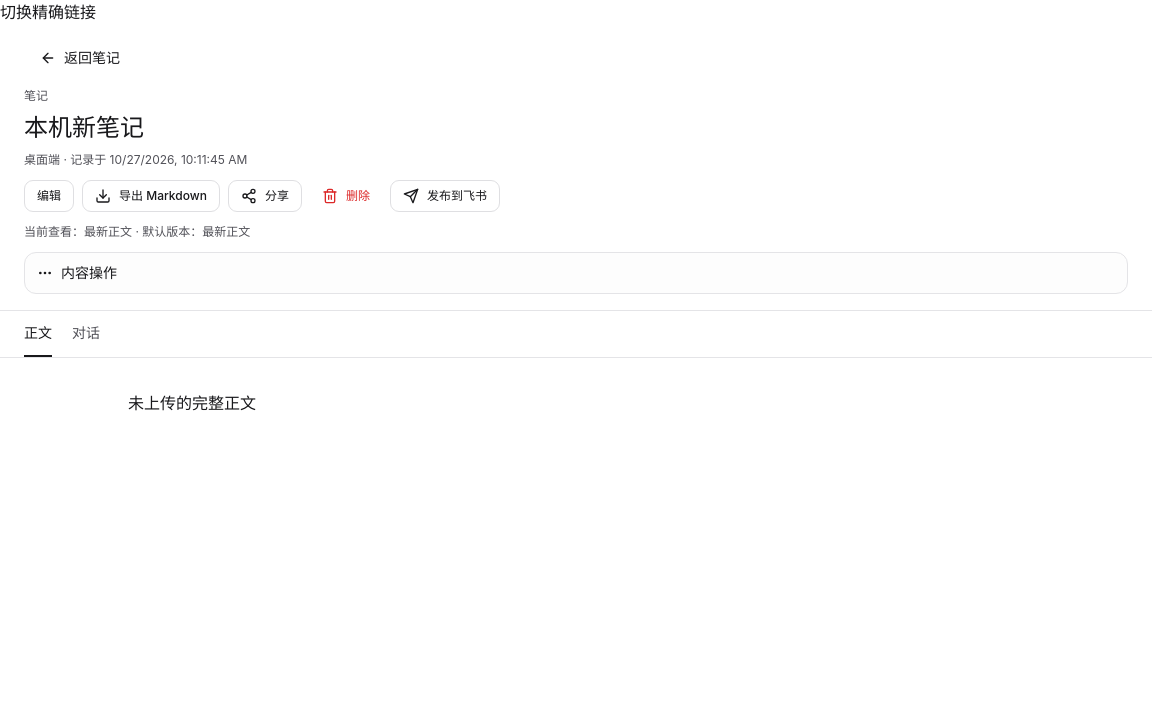
Scenario: connects a newly saved store-local detail to real device trash without any remote request
Expected: the text "未上传的完整正文" is shown, [128,393,256,413]
Click the button "内容操作" at (77, 272), box [37,264,117,281]
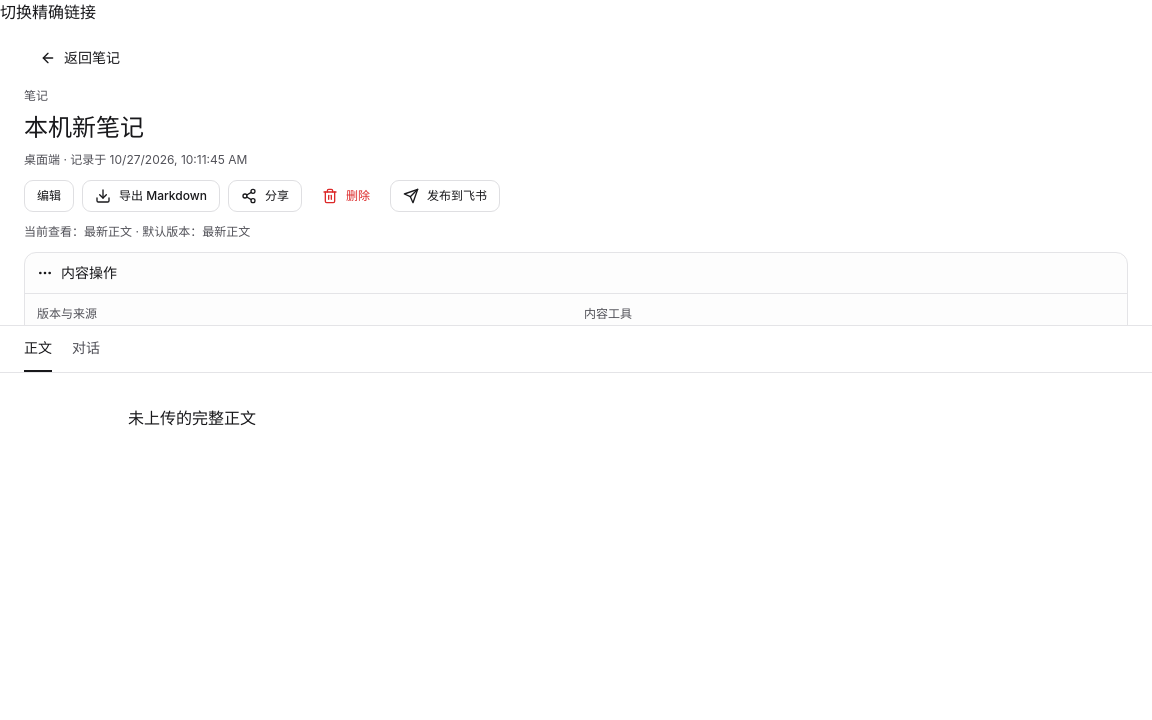
Click the button "删除" at (346, 196), box [310,180,382,212]
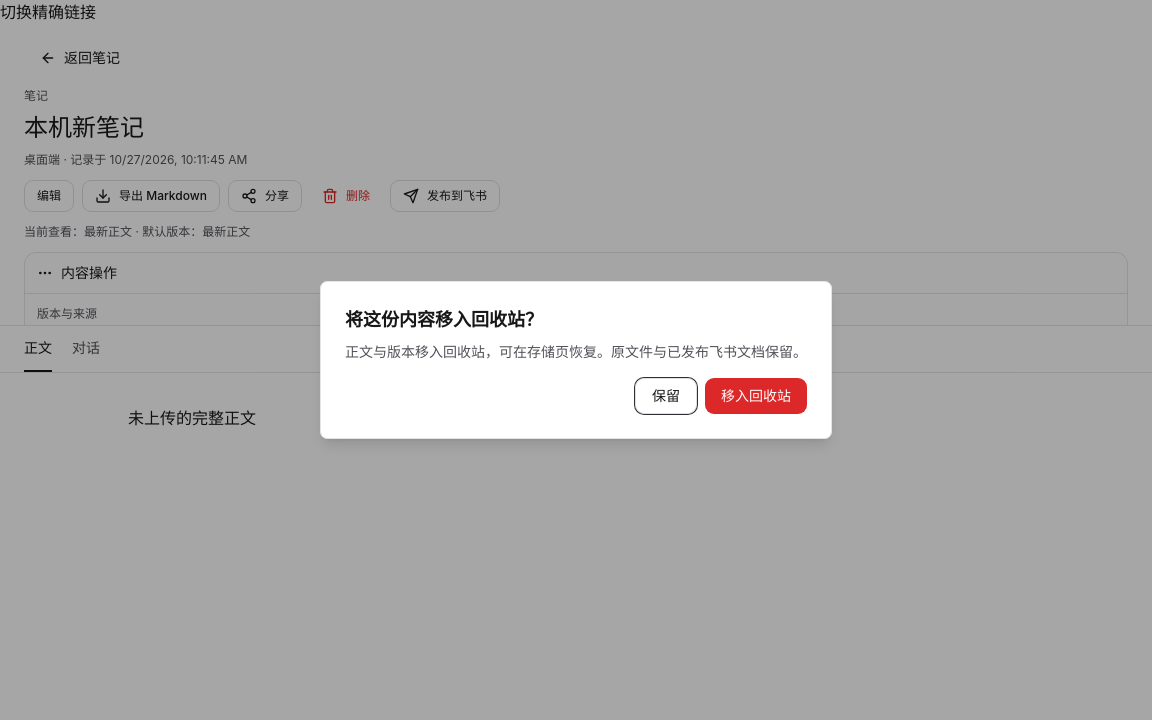
Expected: the dialog shows "可在存储页恢复", [345,343,807,360]
Click the button "移入回收站" at (756, 396), box [705,378,807,414]
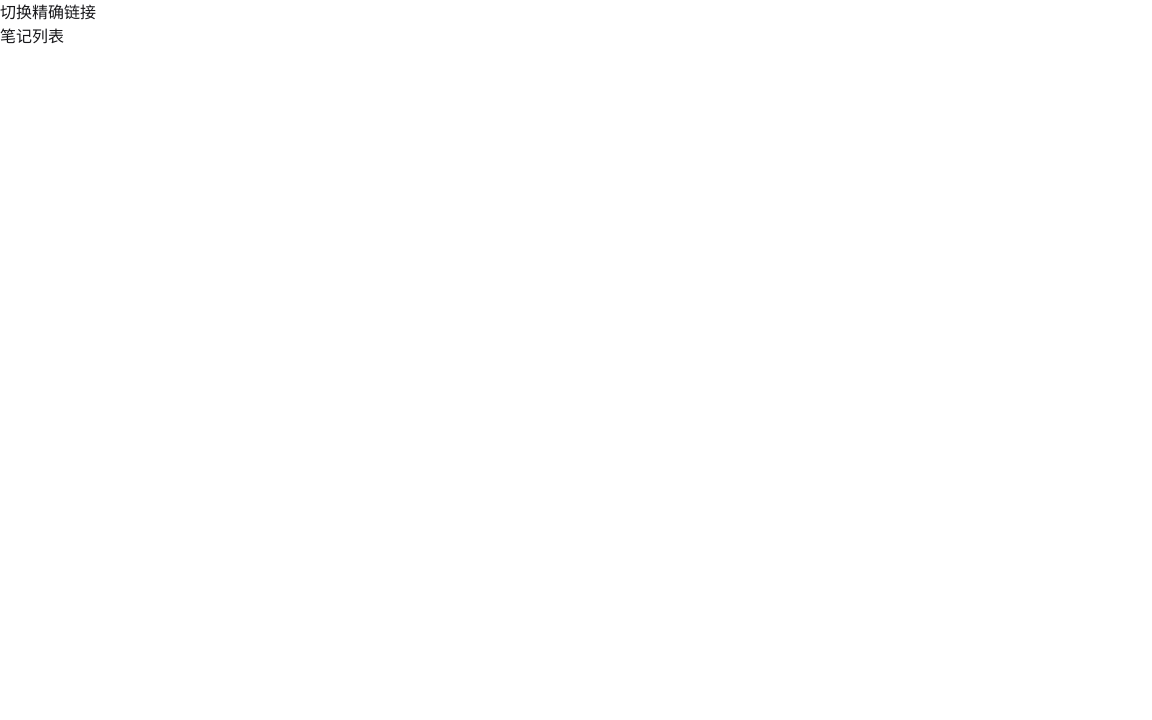
Expected: the text "笔记列表" is shown, [0,26,64,46]
